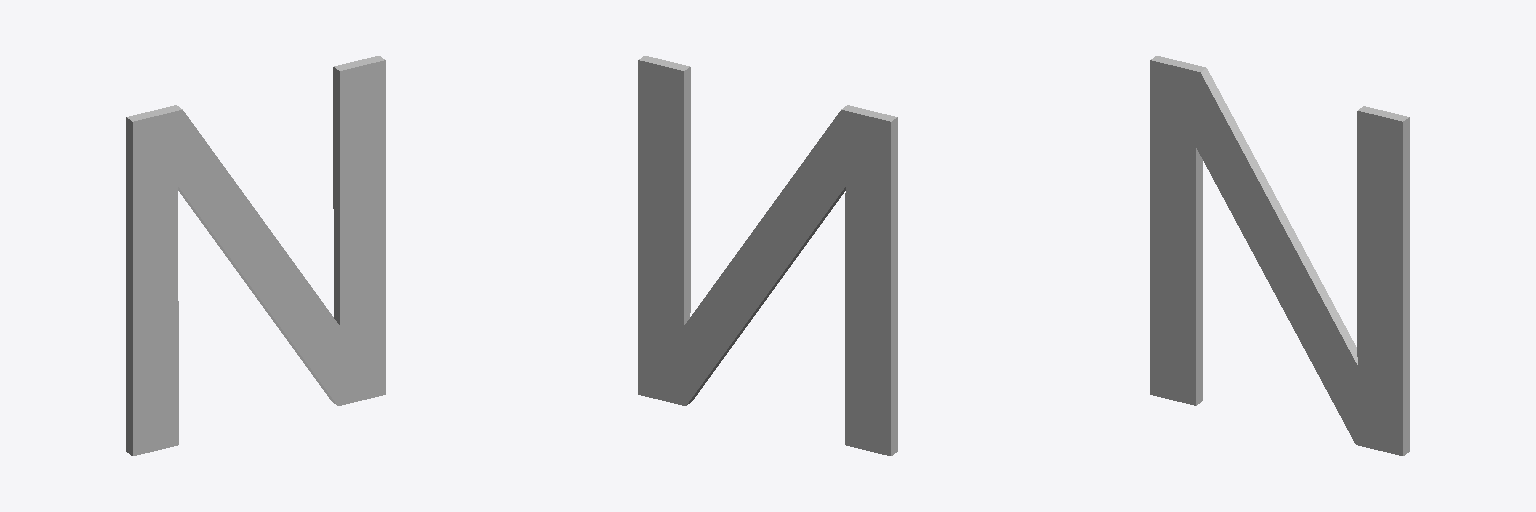
The model's file is original-11.obj.
3 views of the same model, side by side, from view 1: azimuth 30°, elevation 25°; view 2: azimuth 150°, elevation 25°; view 3: azimuth 330°, elevation 25° (orthographic).
Bounding box in the file's own units: 0.0217 × 0.0274 × 0.0009.